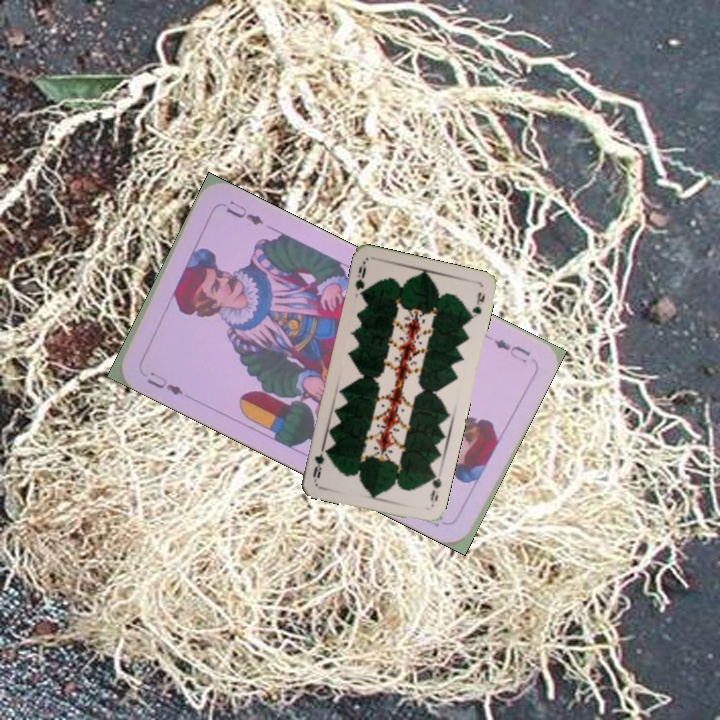EU: (490, 334, 533, 366), (142, 368, 186, 398)
G9: (351, 258, 369, 300), (426, 468, 444, 510)
